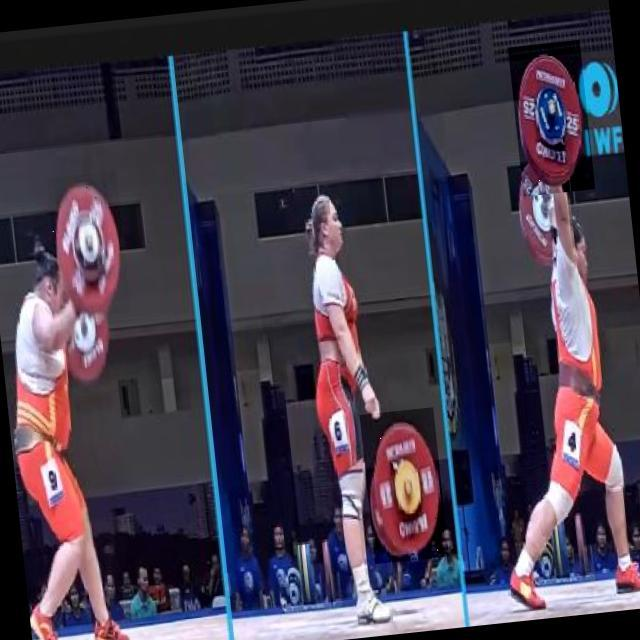barbell: (509, 40, 598, 197), (360, 408, 449, 565), (48, 172, 131, 321)
